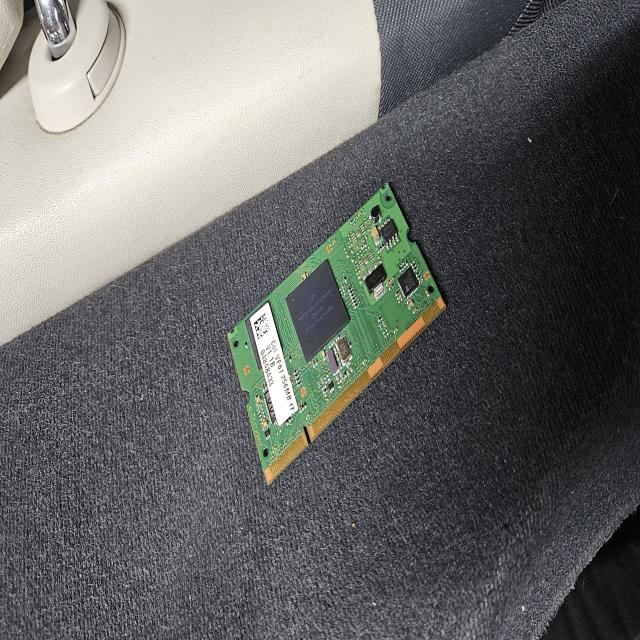som: (226, 169, 453, 496)
